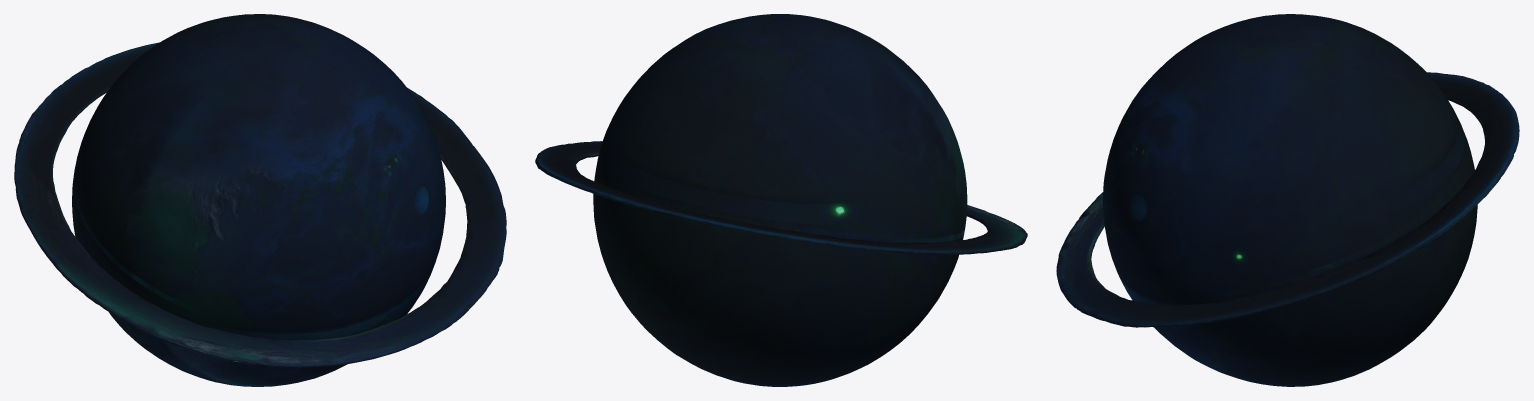
File: planet2.obj
3 renders of one model, left to right at view 1: azimuth 30°, elevation 25°; view 2: azimuth 150°, elevation 25°; view 3: azimuth 270°, elevation 25°, orthographic.
Visible parts, largest first — view 1: Meshy_AI_Create_a_realistic_3D_0128101442_texture; view 2: Meshy_AI_Create_a_realistic_3D_0128101442_texture; view 3: Meshy_AI_Create_a_realistic_3D_0128101442_texture.
Part boxes in pixels (<box>): Meshy_AI_Create_a_realistic_3D_0128101442_texture: <box>14,14,506,386</box>; Meshy_AI_Create_a_realistic_3D_0128101442_texture: <box>535,14,1027,386</box>; Meshy_AI_Create_a_realistic_3D_0128101442_texture: <box>1056,14,1519,386</box>.
Size of the model in its own units: 2.01 by 1.51 by 1.88.
